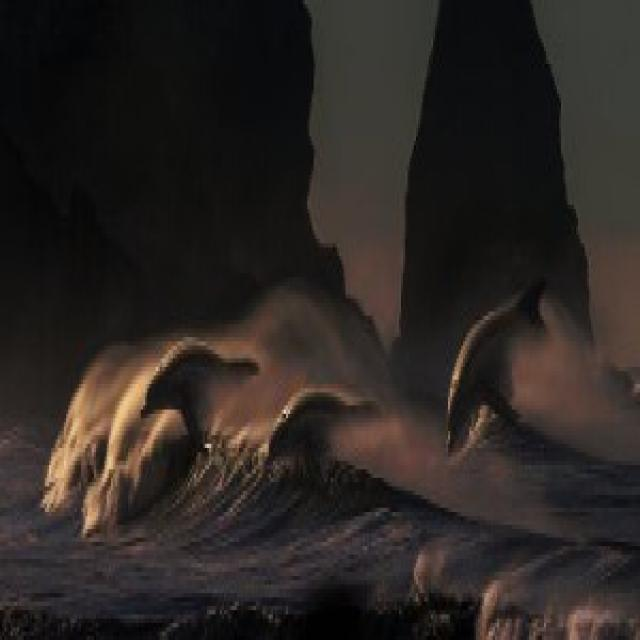Dolphin: (429, 270, 561, 459), (259, 368, 386, 475), (138, 335, 254, 442)
